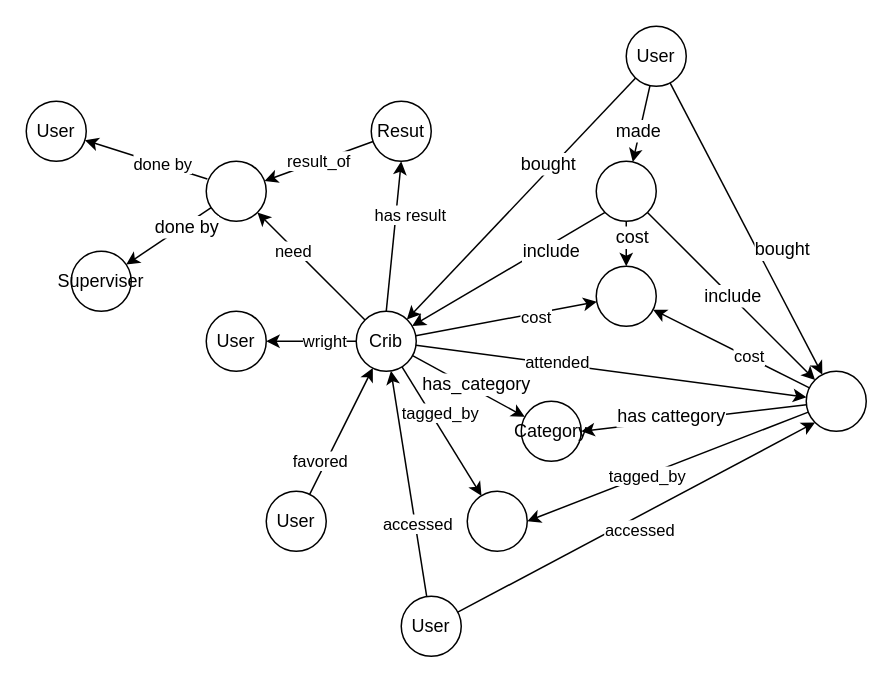
Some shapes in this 893 by 683 pixel diagram are drawn without their labels. The box of each missing label's shape, as (x1, y1, x2, y2) in pixels:
Group: (805, 370, 866, 431)
Moderation: (205, 160, 266, 221)
perchase: (595, 160, 656, 221)
Price: (595, 265, 656, 326)
Tag: (466, 490, 527, 551)
